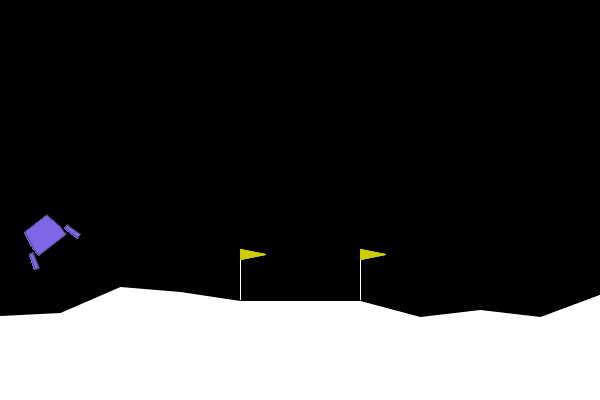lander: (11, 204, 82, 272)
